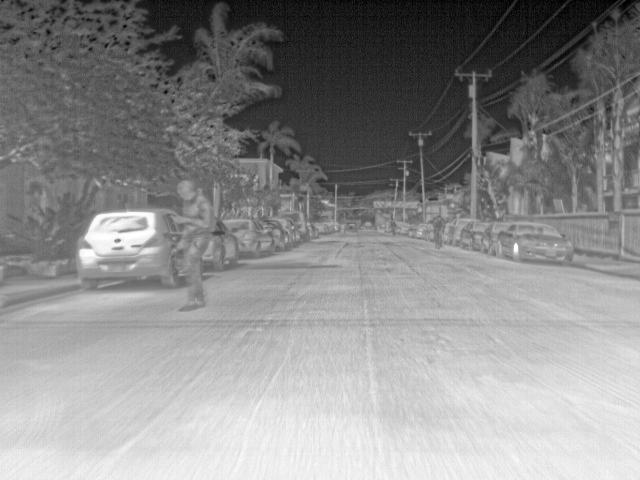car: (78, 206, 173, 292), (497, 221, 574, 262), (239, 218, 278, 258), (214, 217, 240, 271), (281, 209, 309, 242), (459, 219, 482, 253), (480, 220, 498, 257), (277, 220, 292, 252), (446, 216, 459, 246), (414, 221, 432, 238), (290, 218, 301, 244), (305, 222, 319, 239), (318, 222, 332, 234), (344, 222, 357, 234)
person: (171, 180, 214, 311), (432, 213, 447, 234)
